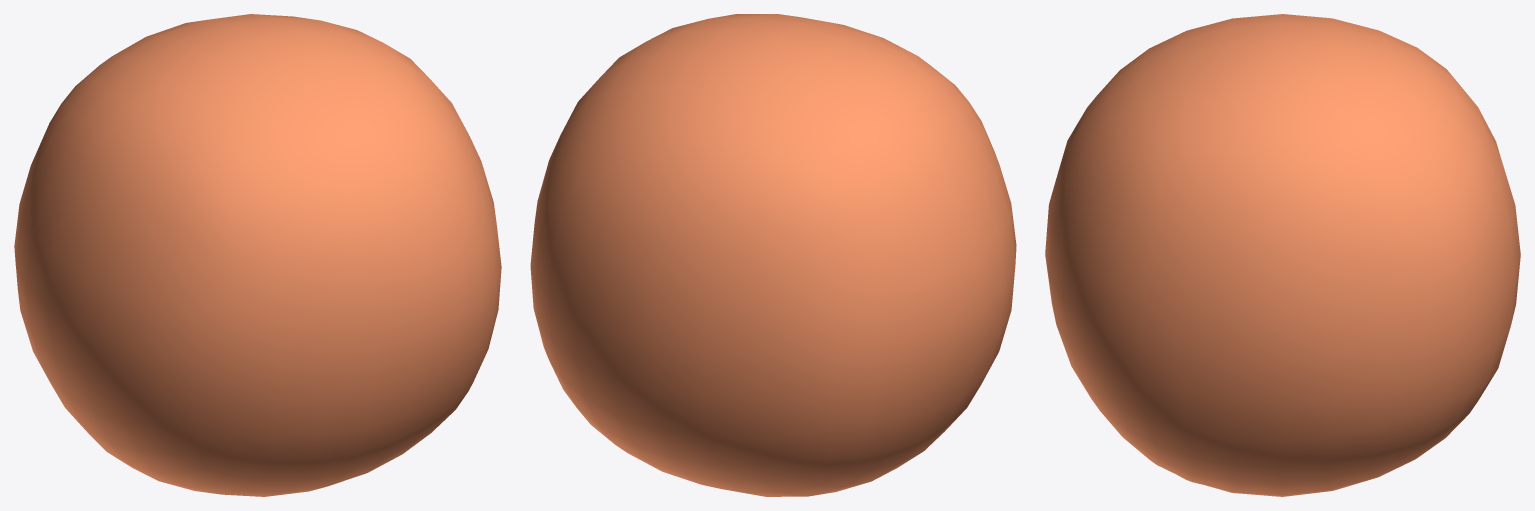
The model's file is lysosome_hd.fbx.
3 views of the same model, side by side, from view 1: azimuth 30°, elevation 25°; view 2: azimuth 150°, elevation 25°; view 3: azimuth 270°, elevation 25° (orthographic).
Parts seen in each view (by area): view 1: Lysosome_01; view 2: Lysosome_01; view 3: Lysosome_01.
Boxes of the visible parts, x1,y1,x2,y2 form: Lysosome_01: (14, 14, 501, 496); Lysosome_01: (530, 14, 1016, 496); Lysosome_01: (1045, 14, 1520, 496).
Bounding box in the file's own units: 127 × 125 × 125.
